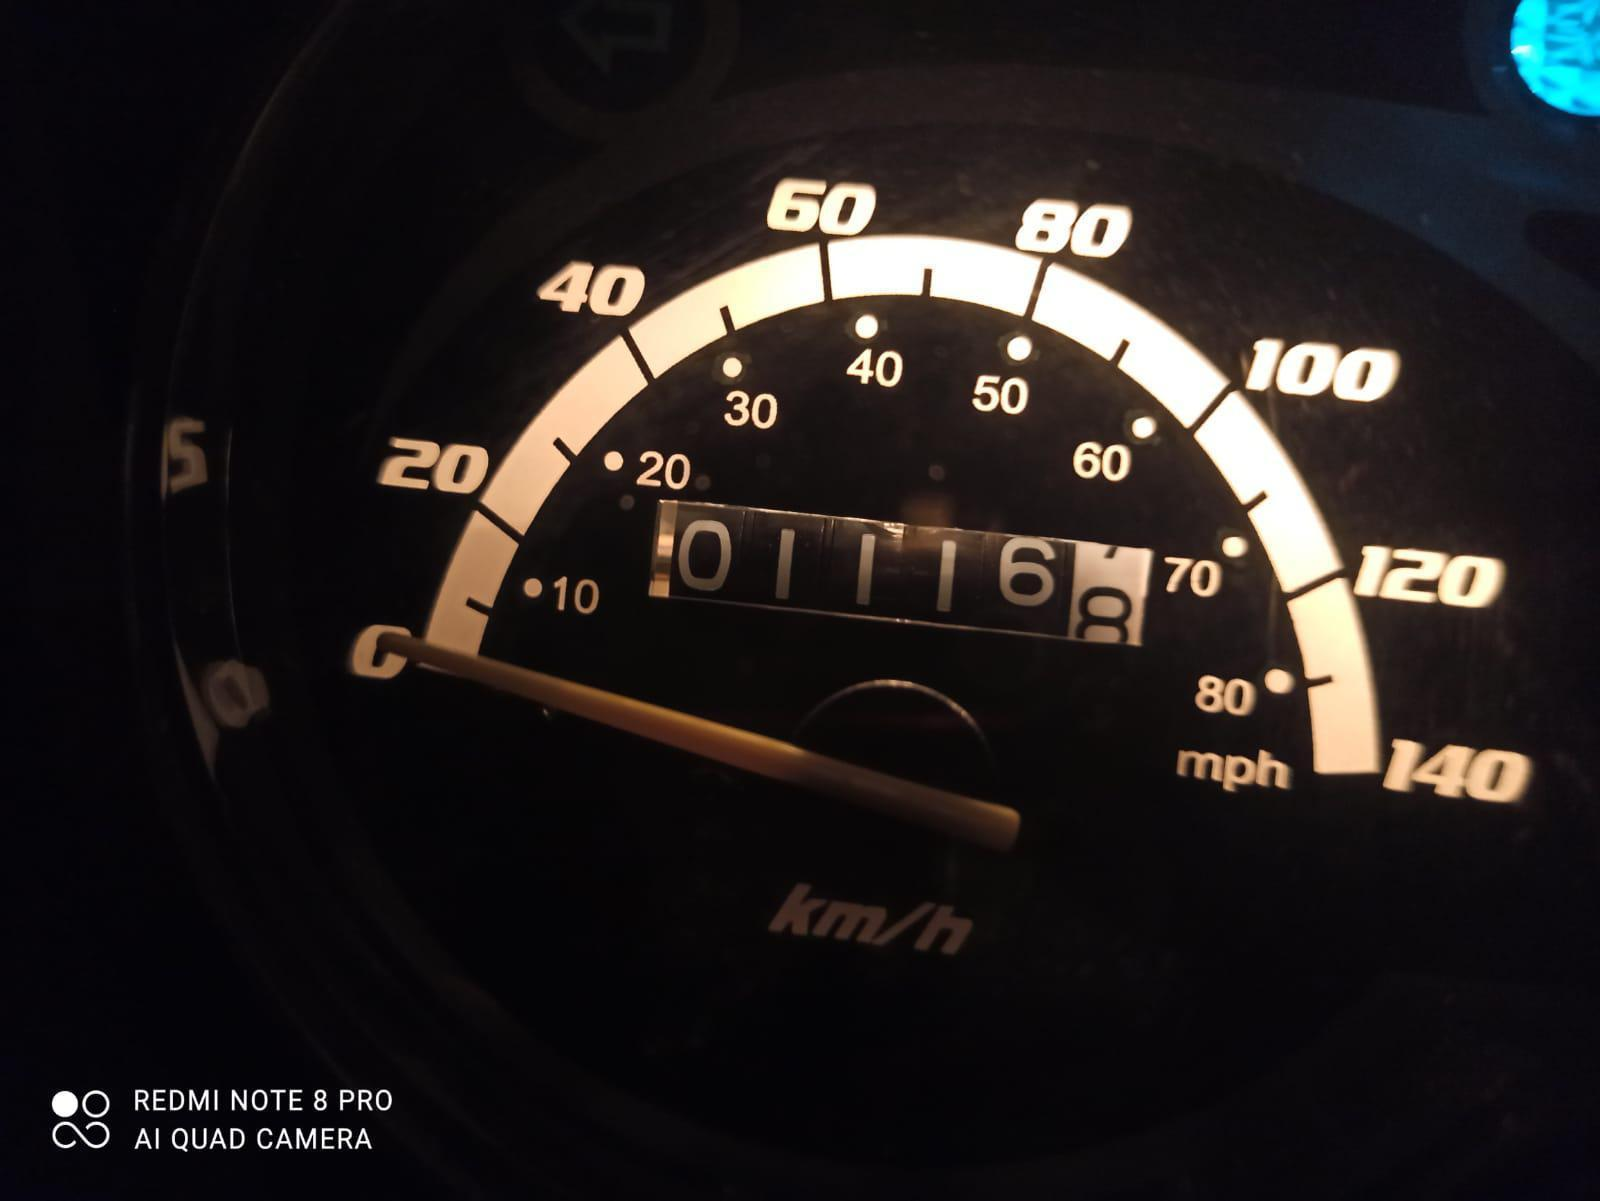0: (673, 516, 733, 595)
1: (765, 522, 803, 602), (927, 534, 962, 616), (847, 527, 881, 609)
6: (992, 536, 1060, 608)
8: (1073, 583, 1134, 643)
odometer: (633, 492, 1158, 655)
